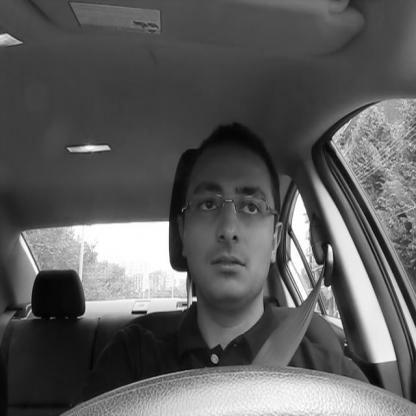seatbelt: (161, 116, 337, 416)
